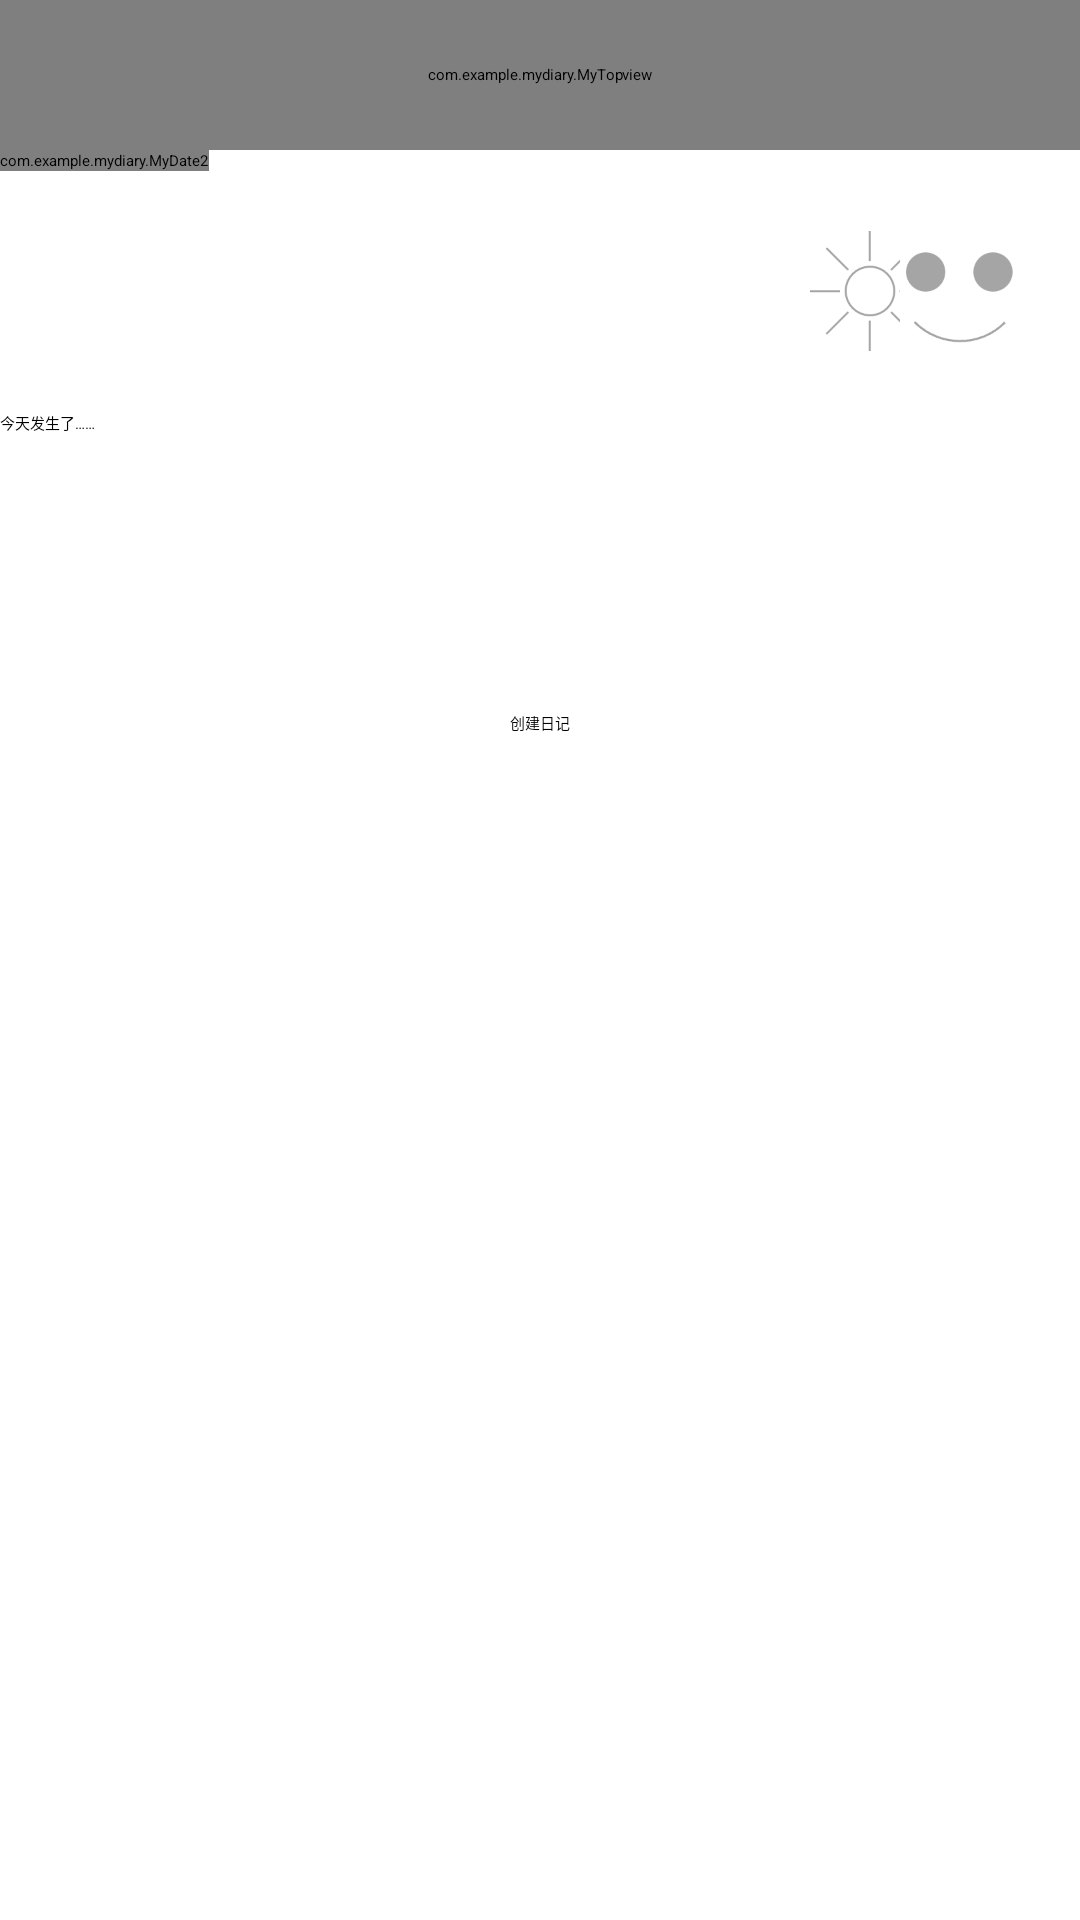

Point at icon controls on the screen. Image size 1080x1920, points as [x,y].
happy: [959,297]
